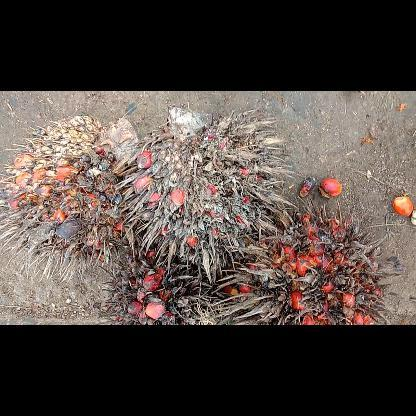Terlalu masak: (112, 102, 304, 283), (0, 107, 149, 280), (213, 206, 399, 324), (91, 238, 235, 324)
